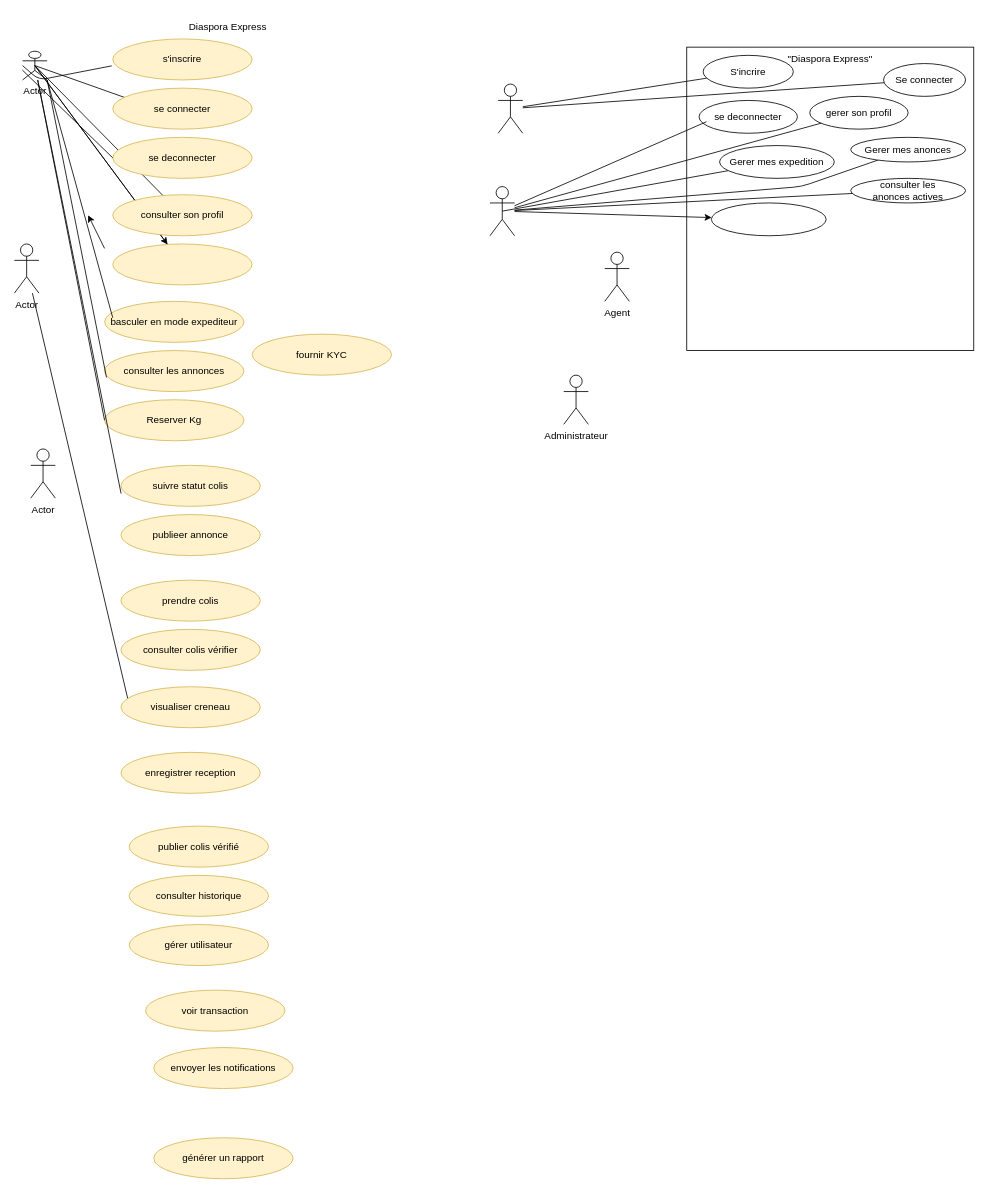
The diagram is 988 pixels wide and 1193 high, and some of its shapes have lost their labels. Here are the shapes that lost their labels. From the top down, the centre of each, then its label:
point (510, 108): Internaute
point (502, 211): Utilisateur
point (768, 219): suivre ses colis
point (182, 264): basculer en mode voyageur
